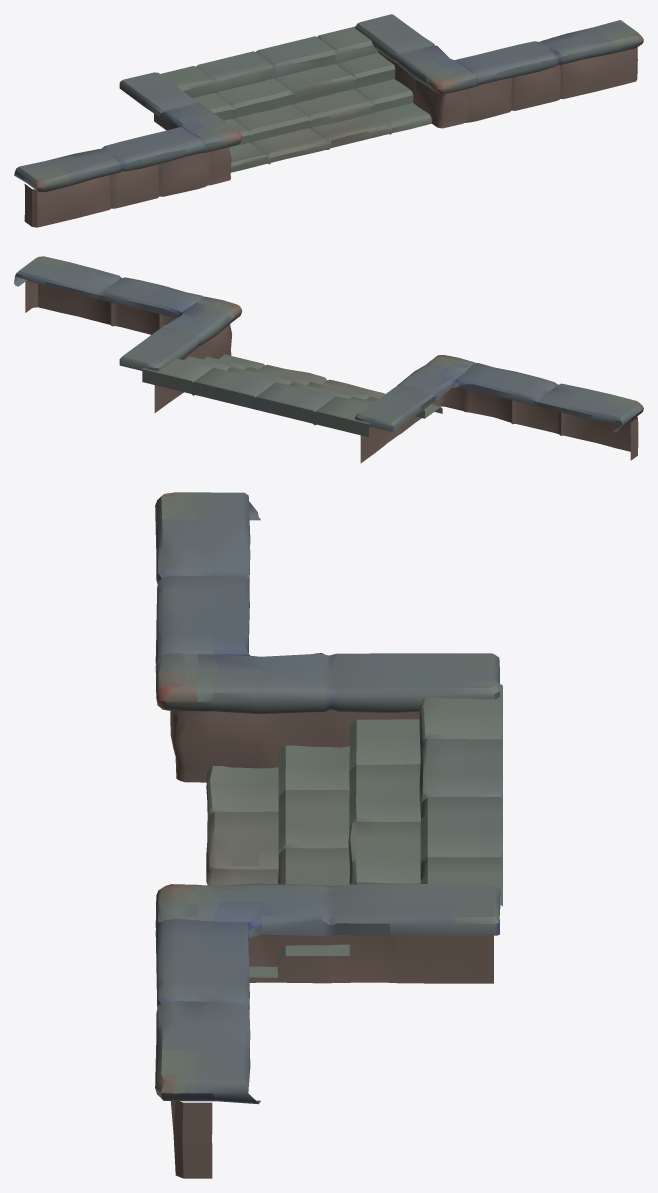
The model's file is Stairs.fbx.
3 renders of one model, top to bottom at view 1: azimuth 30°, elevation 25°; view 2: azimuth 150°, elevation 25°; view 3: azimuth 270°, elevation 25°, orthographic. The views are drawn at different scales.
Parts seen in each view (by area): view 1: SidesLow (2); view 2: SidesLow (2); view 3: SidesLow (2).
Boxes of the visible parts, box(x1,y1,x2,y2) form: SidesLow (2): box(14, 14, 643, 227); SidesLow (2): box(14, 256, 643, 463); SidesLow (2): box(155, 492, 502, 1178).
Bounding box in the file's own units: 1004 × 81.07 × 249.
